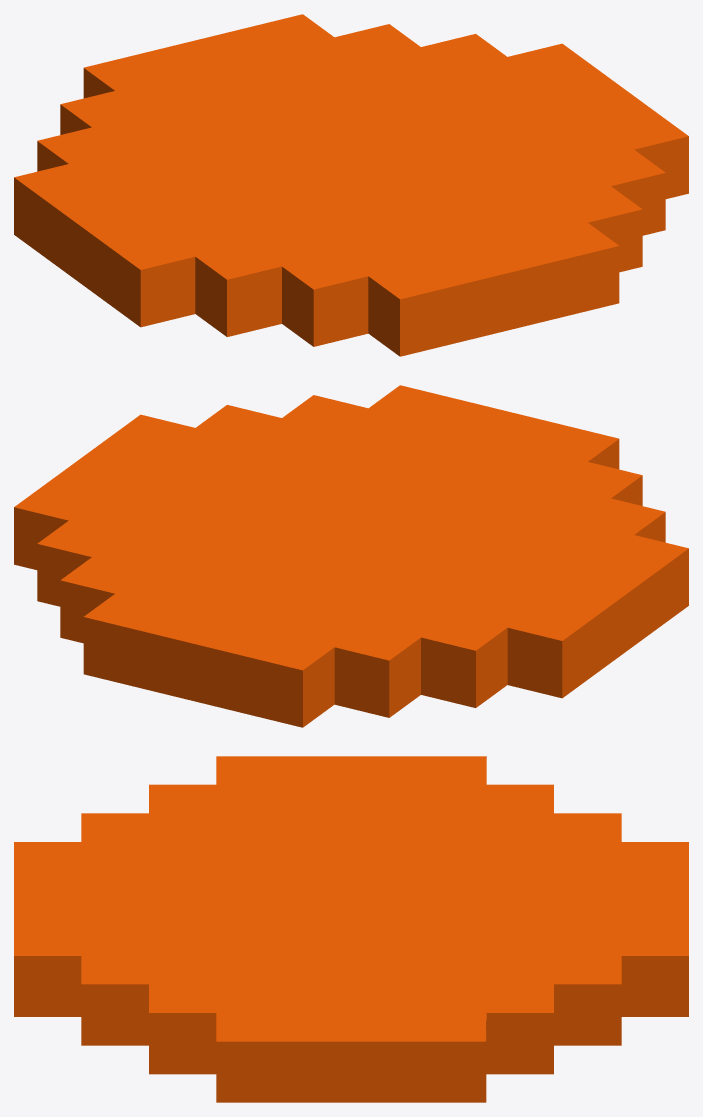
The model's file is trainLine.fbx.
3 views of the same model, one above another, from view 1: azimuth 30°, elevation 25°; view 2: azimuth 150°, elevation 25°; view 3: azimuth 270°, elevation 25° (orthographic). The views are drawn at different scales.
Visible parts, largest first — view 1: trainLine; view 2: trainLine; view 3: trainLine.
Part boxes in pixels (bbox=[...]): trainLine: bbox=[14, 14, 688, 356]; trainLine: bbox=[14, 385, 688, 727]; trainLine: bbox=[14, 756, 688, 1102].
Size of the model in its own units: 100 by 10 by 100.
